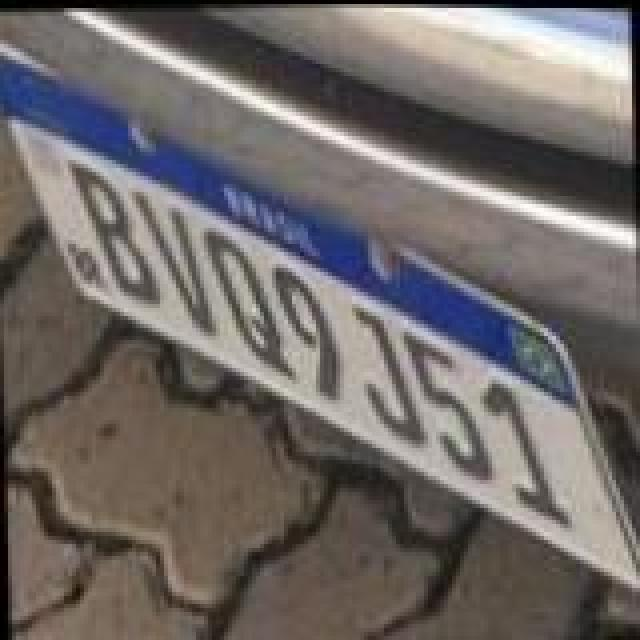1: (480, 374, 572, 526)
5: (398, 326, 494, 482)
9: (268, 256, 340, 400)
B: (66, 154, 162, 306)
J: (346, 294, 422, 446)
Q: (200, 226, 296, 390)
V: (130, 182, 218, 338)
